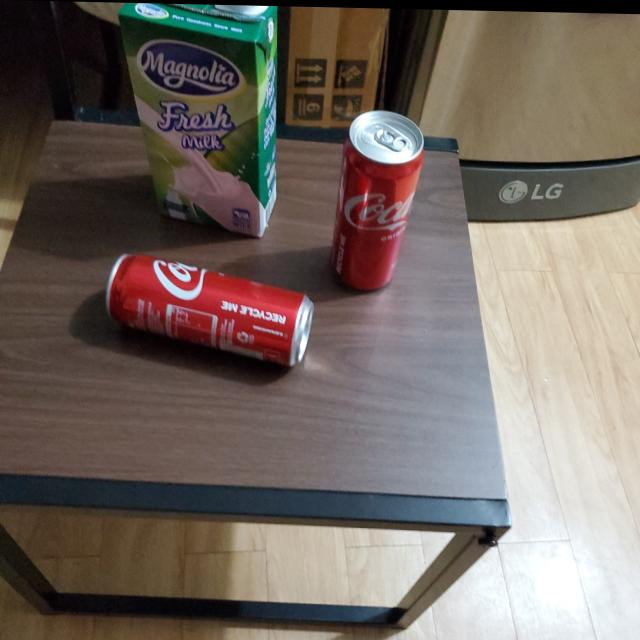coke: (108, 250, 318, 366), (334, 108, 432, 286)
milk: (114, 2, 278, 239)
